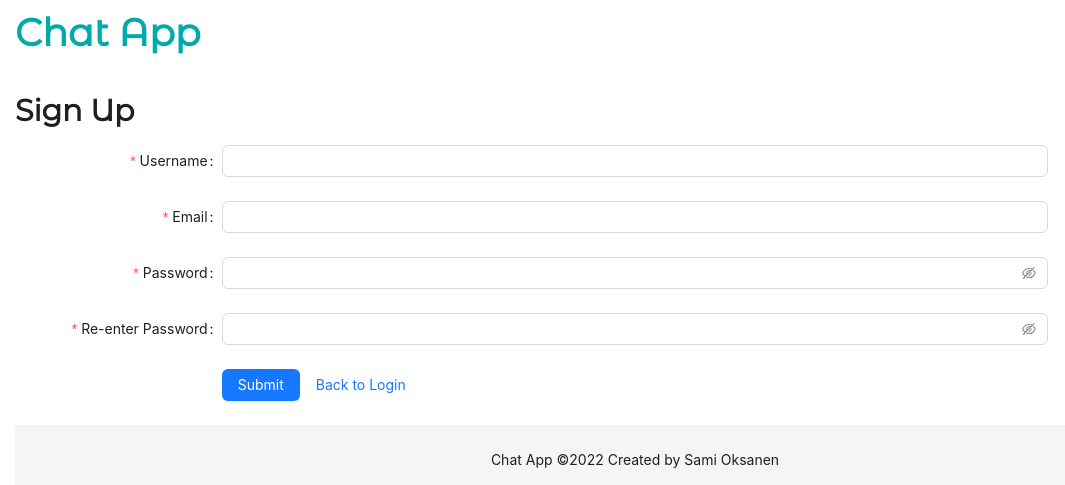
SignUpForm › shows validation errors for empty required fields
Step 1. Click the button "Submit" → (261, 385), box [222,369,300,401]
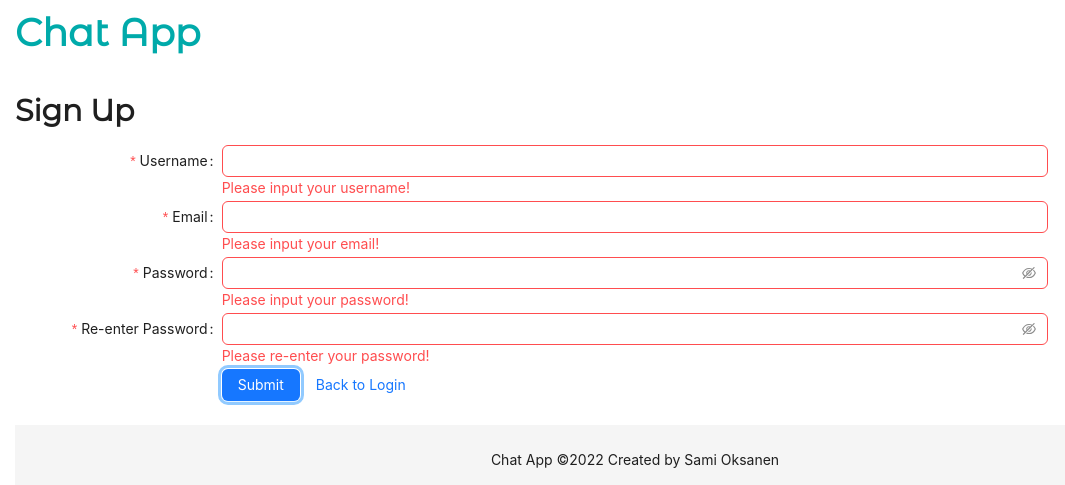
Expected: the text "Please input your username!" is shown, [222,179,410,196]
Expected: the text "Please input your email!" is shown, [222,235,379,252]
Expected: the text "Please input your password!" is shown, [222,291,409,308]
